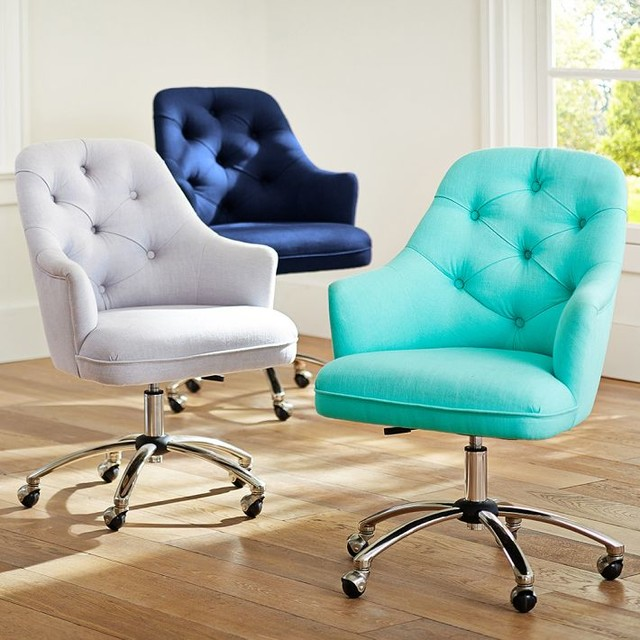chairs: (321, 142, 632, 617), (14, 139, 299, 538), (137, 65, 372, 425)
